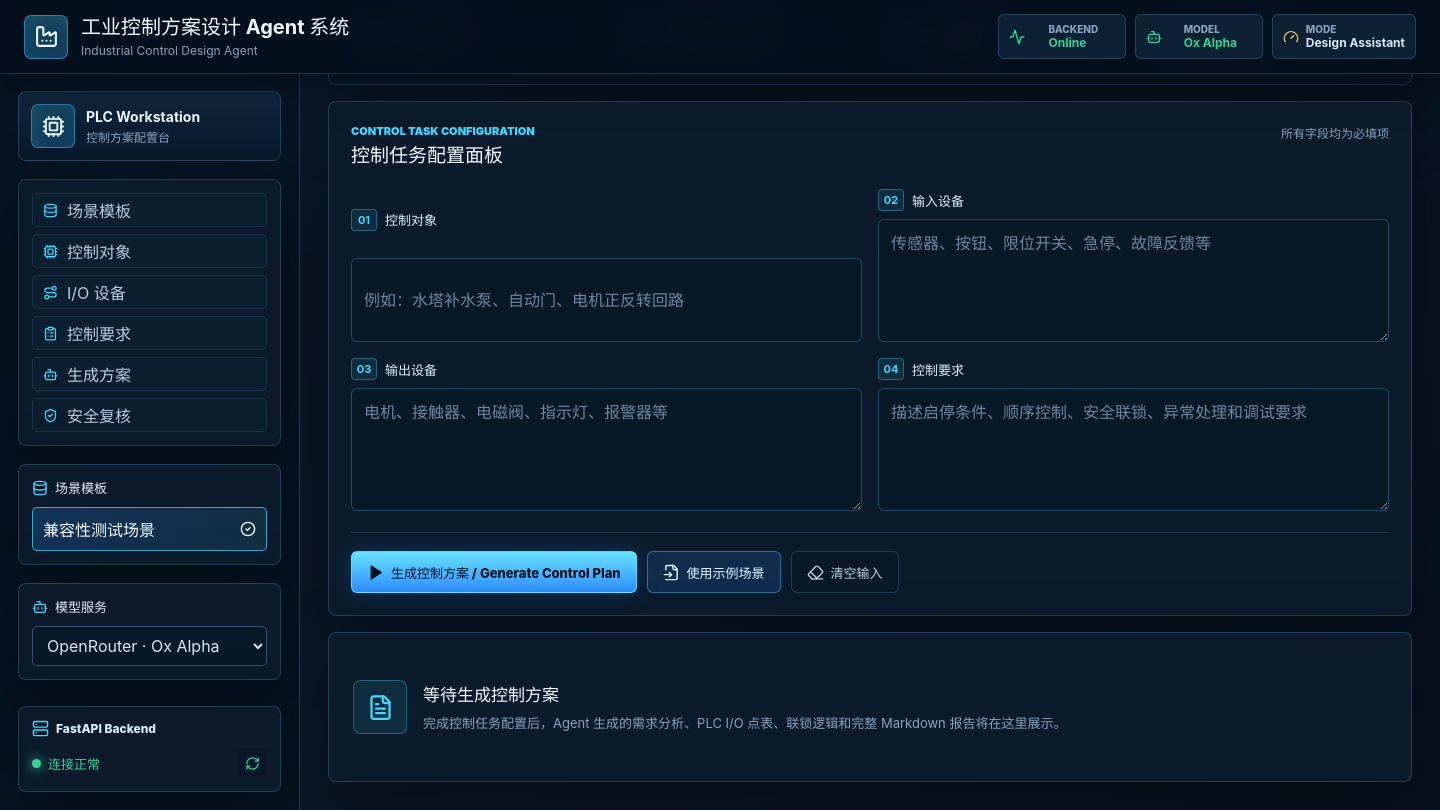
Test: App response compatibility › optimizes a generated report and renders the comparison
(page scrolled)
Click the button "使用示例场景" at (714, 572), box 647,552 -> 781,594
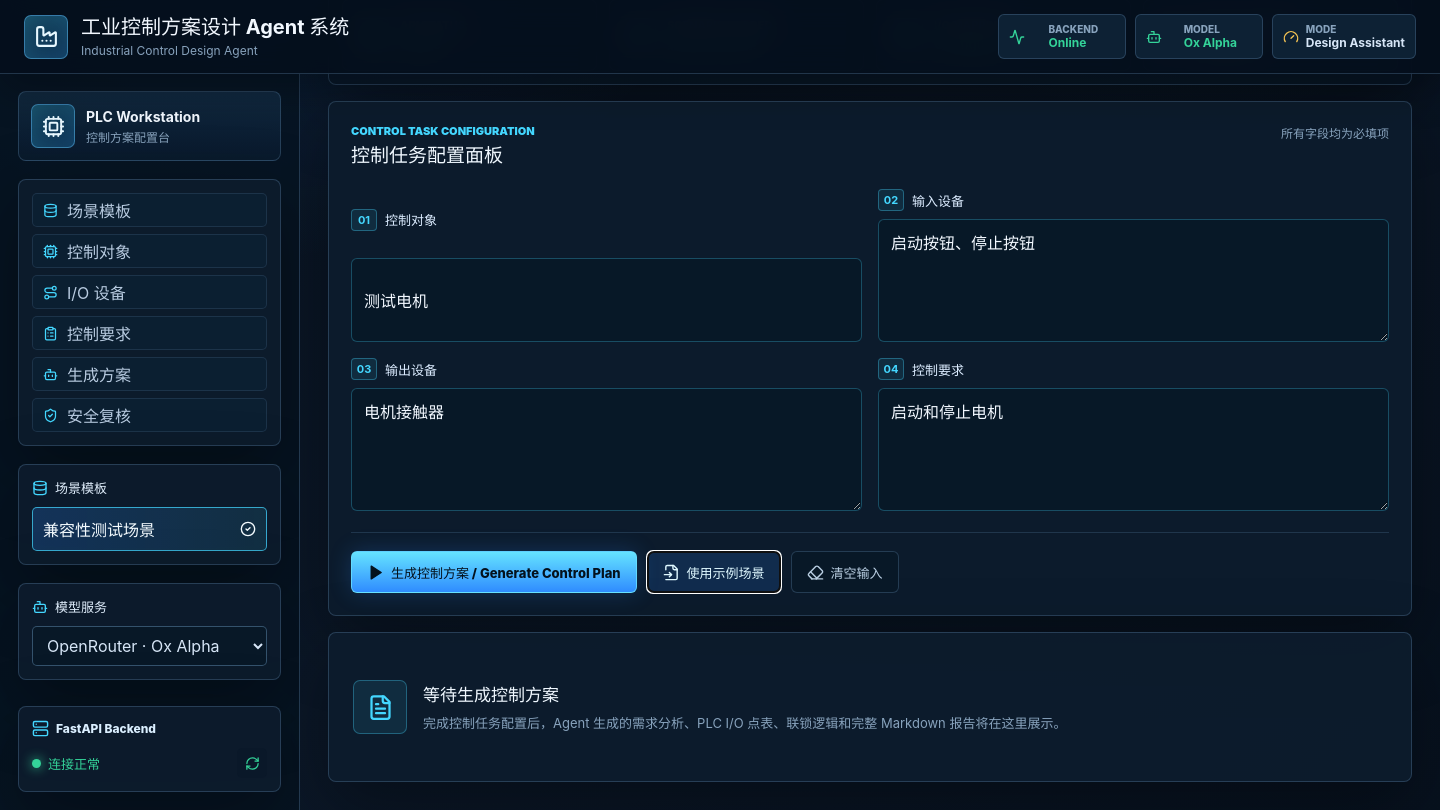
Click the button "生成控制方案 / Generate Control Plan" at (494, 572), box 351,552 -> 637,594
(page scrolled)
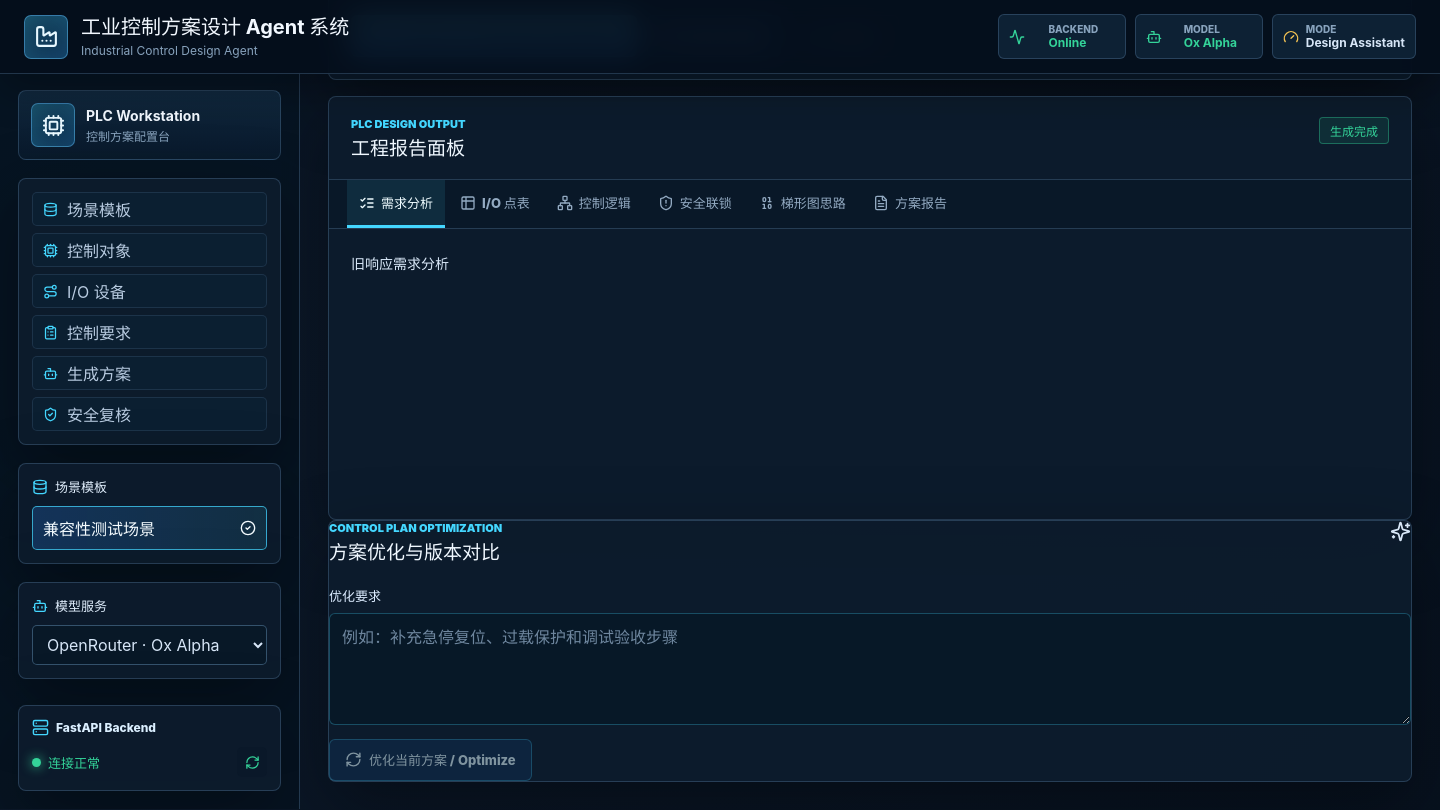
Type "增加急停复位逻辑" into the text box labelled "优化要求" at (870, 669), box 329,613 -> 1411,725
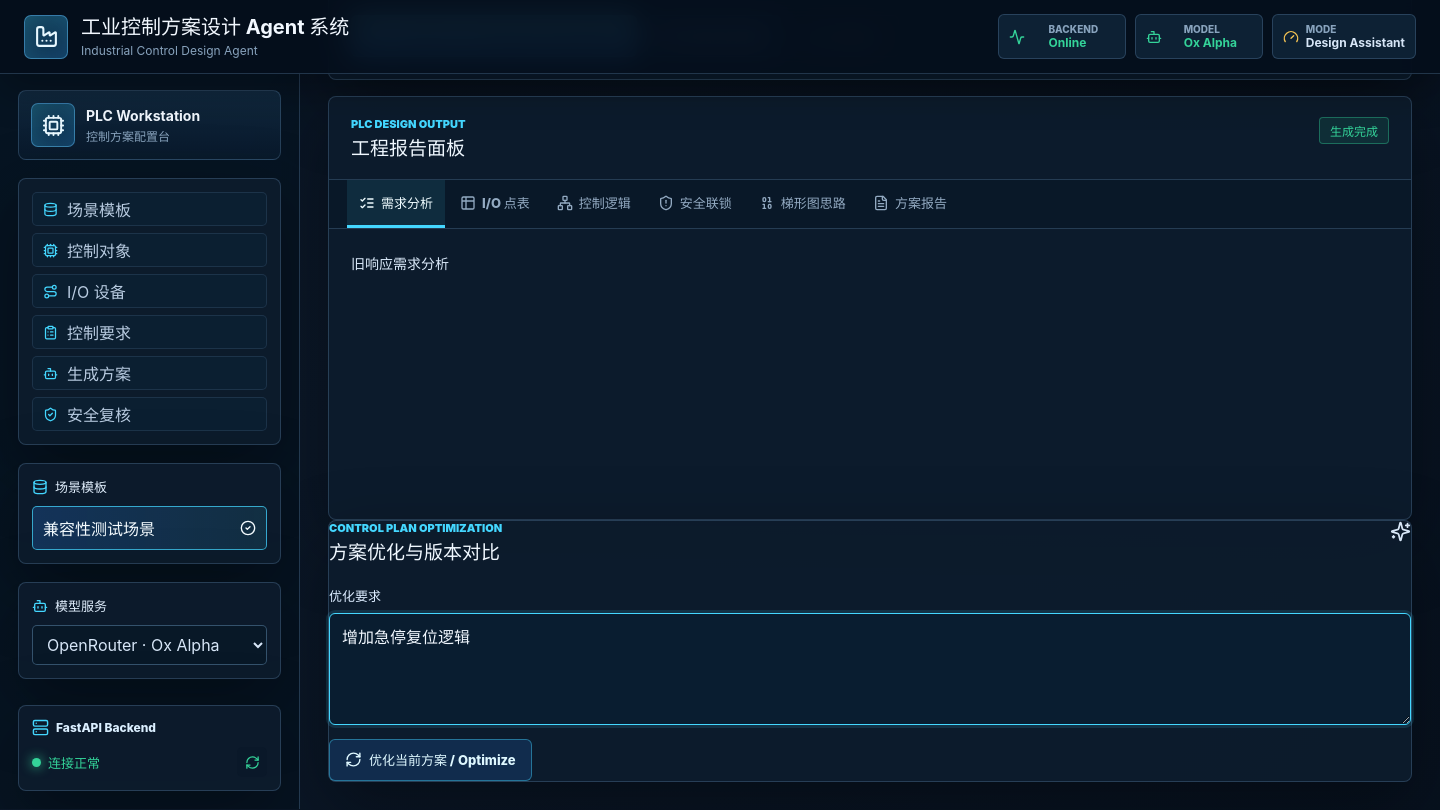
Click the button "优化当前方案 / Optimize" at (430, 760), box 329,739 -> 532,781
(page scrolled)
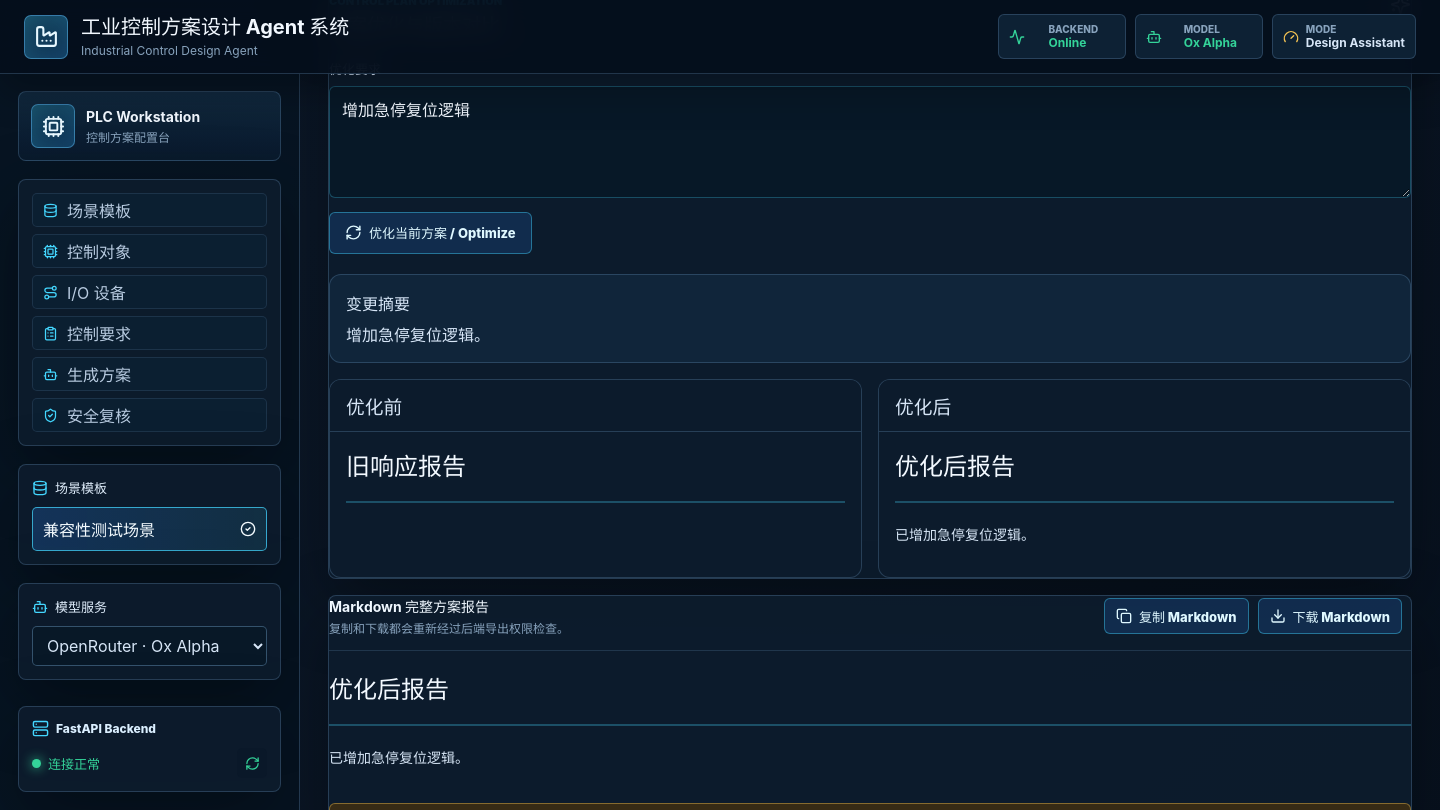
Result: the text "增加急停复位逻辑。" is shown at 346,325 -> 490,345
Result: the heading "优化前" is shown at 330,380 -> 861,432
Result: the heading "优化后" is shown at 879,380 -> 1410,432
